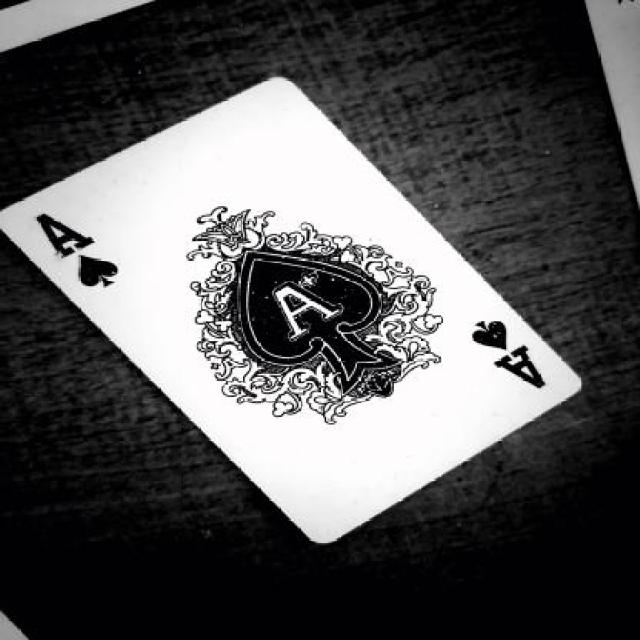AS: (26, 197, 126, 314), (461, 307, 557, 408)
